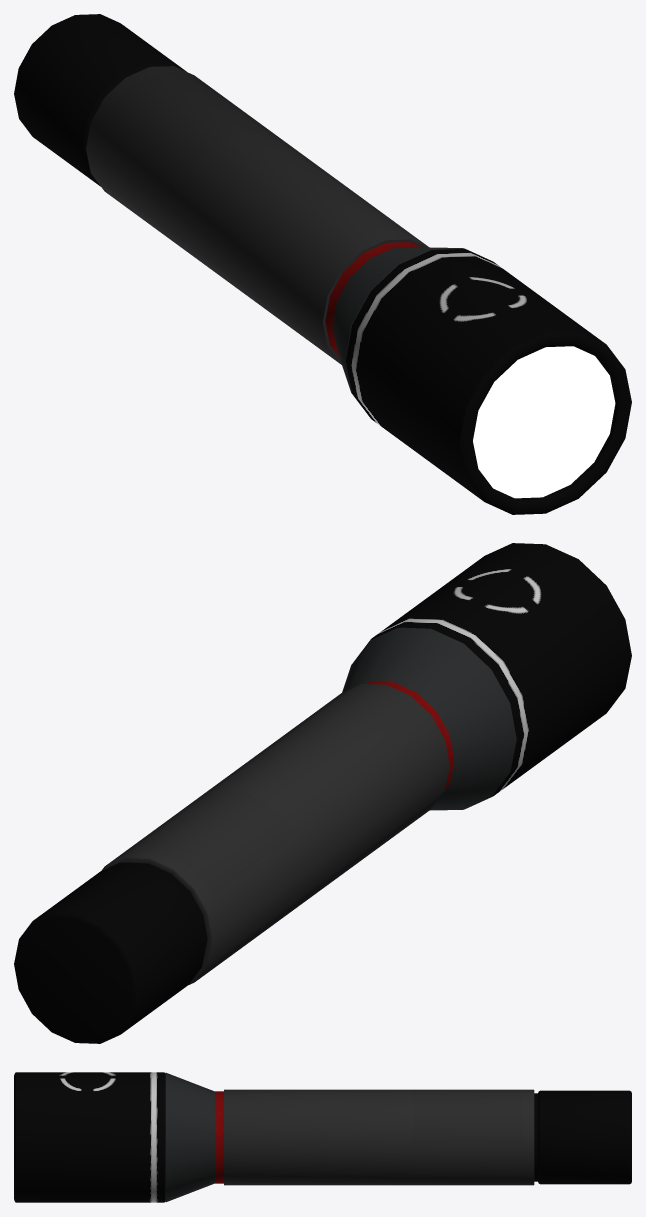
File: FlashLight.fbx
3 renders of one model, top to bottom at view 1: azimuth 30°, elevation 25°; view 2: azimuth 150°, elevation 25°; view 3: azimuth 270°, elevation 25°, orthographic. The views are drawn at different scales.
Parts seen in each view (by area): view 1: FlashLight; view 2: FlashLight; view 3: FlashLight.
Part boxes in pixels (x1,y1,x2,y2): FlashLight: (14, 14, 631, 514); FlashLight: (14, 543, 631, 1043); FlashLight: (14, 1072, 631, 1202).
Bounding box in the file's own units: 6.57 × 6.57 × 31.15.
Materials: 5 (5 with a texture image).
